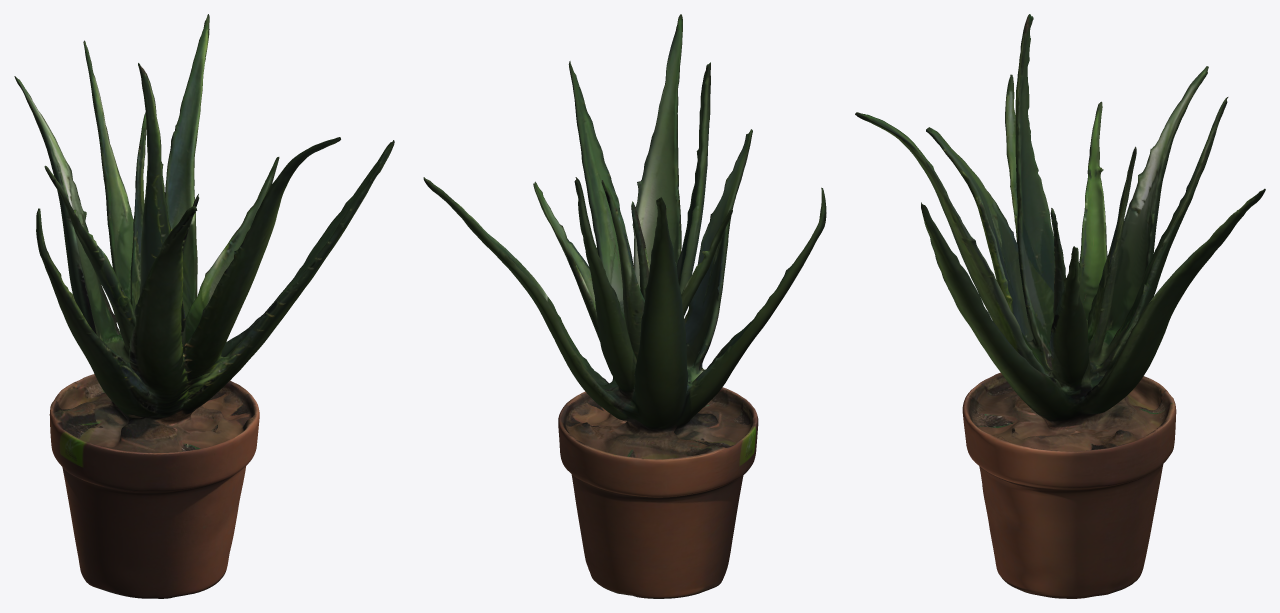
The model's file is aloevera.glb.
The picture shows the model from 3 angles, left to right: view 1: azimuth 30°, elevation 25°; view 2: azimuth 150°, elevation 25°; view 3: azimuth 270°, elevation 25°; orthographic projection. The views are drawn at different scales.
Bounding box in the file's own units: 1.24 × 1.99 × 1.38.
1 material, 1 textured.
